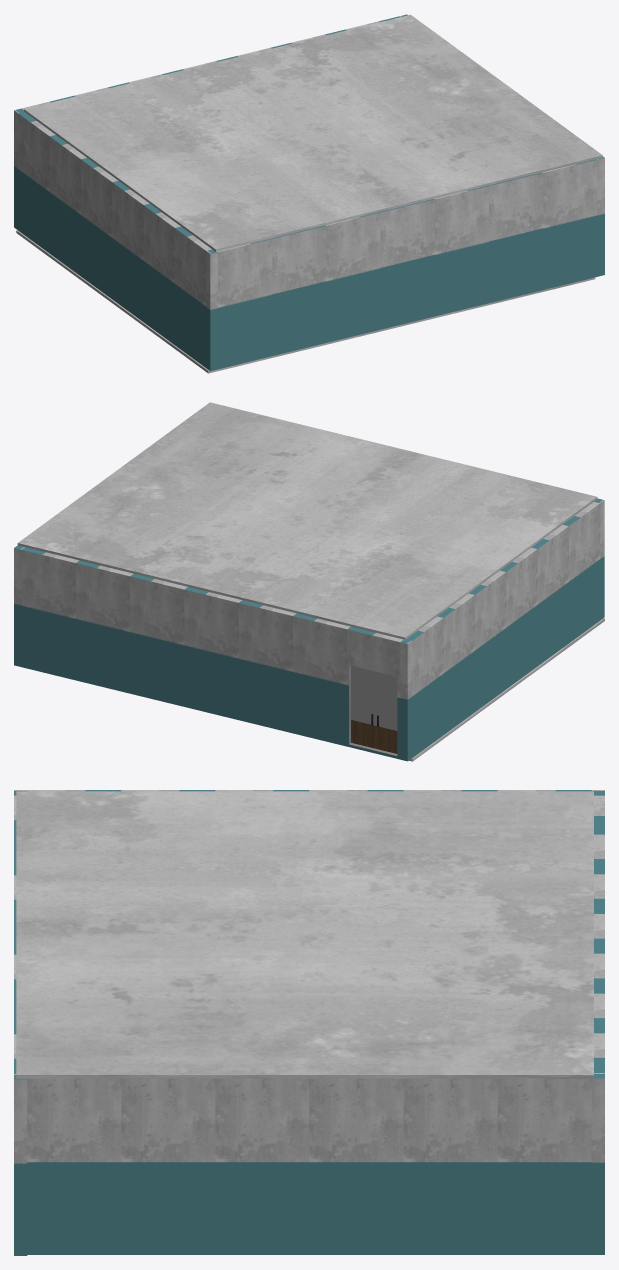
File: AraiMioAshley_ChemLab.fbx
3 views of the same model, one above another, from view 1: azimuth 30°, elevation 25°; view 2: azimuth 150°, elevation 25°; view 3: azimuth 270°, elevation 25° (orthographic). The views are drawn at different scales.
Parts seen in each view (by area): view 1: Floor_tile2, window_wall56, window_wall42, window_wall55, window_wall54, window_wall40, window_wall46, window_wall44, window_wall33, window_wall32, window_wall38, window_wall35 (+6 smaller); view 2: Floor_tile2, window_wall37, window_wall25, window_wall27, window_wall29, window_wall26, window_wall30, window_wall33, window_wall32, window_wall38, window_wall36, window_wall35 (+9 smaller); view 3: Floor_tile2, window_wall50, window_wall53, window_wall49, window_wall52, window_wall51, window_wall48, window_wall28, window_wall47.
Part boxes in pixels (x1=…): Floor_tile2: x1=24, y1=14, x2=602, y2=251; window_wall56: x1=488, y1=172, x2=543, y2=303; window_wall42: x1=326, y1=212, x2=380, y2=342; window_wall55: x1=272, y1=225, x2=326, y2=355; window_wall54: x1=380, y1=199, x2=434, y2=329; window_wall40: x1=217, y1=238, x2=272, y2=369; window_wall46: x1=543, y1=159, x2=597, y2=289; window_wall44: x1=434, y1=185, x2=488, y2=316; window_wall33: x1=49, y1=135, x2=86, y2=275; window_wall32: x1=18, y1=112, x2=55, y2=253; window_wall38: x1=174, y1=226, x2=211, y2=367; window_wall35: x1=112, y1=180, x2=149, y2=321; Floor_tile2: x1=17, y1=402, x2=597, y2=639; window_wall37: x1=21, y1=547, x2=79, y2=680; window_wall25: x1=293, y1=613, x2=350, y2=746; window_wall27: x1=184, y1=587, x2=241, y2=719; window_wall29: x1=130, y1=574, x2=187, y2=706; window_wall26: x1=238, y1=600, x2=296, y2=733; window_wall30: x1=76, y1=560, x2=133, y2=693; window_wall33: x1=437, y1=593, x2=474, y2=734; window_wall32: x1=406, y1=616, x2=443, y2=757; window_wall38: x1=563, y1=502, x2=600, y2=642; window_wall36: x1=531, y1=524, x2=568, y2=665; window_wall35: x1=500, y1=547, x2=537, y2=688; Floor_tile2: x1=16, y1=791, x2=593, y2=1078; window_wall50: x1=309, y1=1078, x2=403, y2=1254; window_wall53: x1=27, y1=1078, x2=121, y2=1254; window_wall49: x1=403, y1=1078, x2=497, y2=1254; window_wall52: x1=121, y1=1078, x2=215, y2=1254; window_wall51: x1=215, y1=1078, x2=309, y2=1254; window_wall48: x1=497, y1=1078, x2=591, y2=1254; window_wall28: x1=591, y1=1073, x2=604, y2=1254; window_wall47: x1=14, y1=1074, x2=27, y2=1255.
Size of the model in its own units: 1217 by 359 by 1046.
